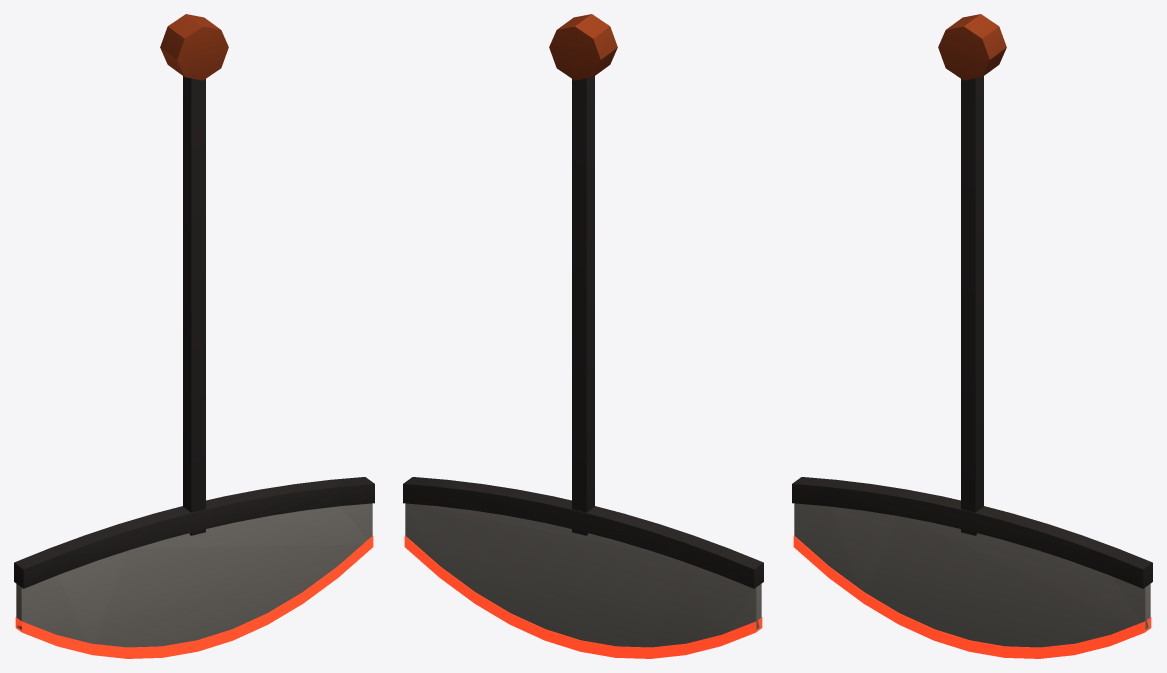
File: hanging_blade_or_beam.glb
3 renders of one model, left to right at view 1: azimuth 30°, elevation 25°; view 2: azimuth 150°, elevation 25°; view 3: azimuth 330°, elevation 25°, orthographic.
Visible parts, largest first — view 1: swing_mesh; view 2: swing_mesh; view 3: swing_mesh.
Boxes of the visible parts, bbox=[...] form: swing_mesh: bbox=[14, 14, 374, 658]; swing_mesh: bbox=[403, 14, 763, 658]; swing_mesh: bbox=[792, 14, 1152, 658].
Size of the model in its own units: 1.9 by 3.25 by 0.16.
